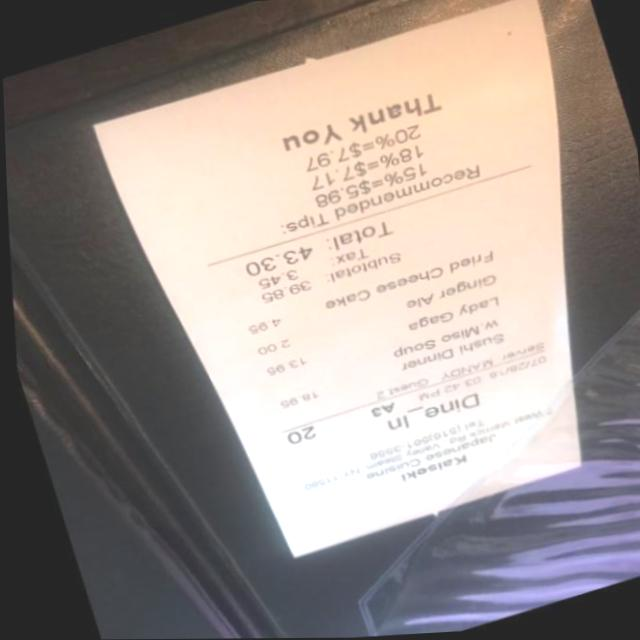Paper: (60, 0, 640, 589)
